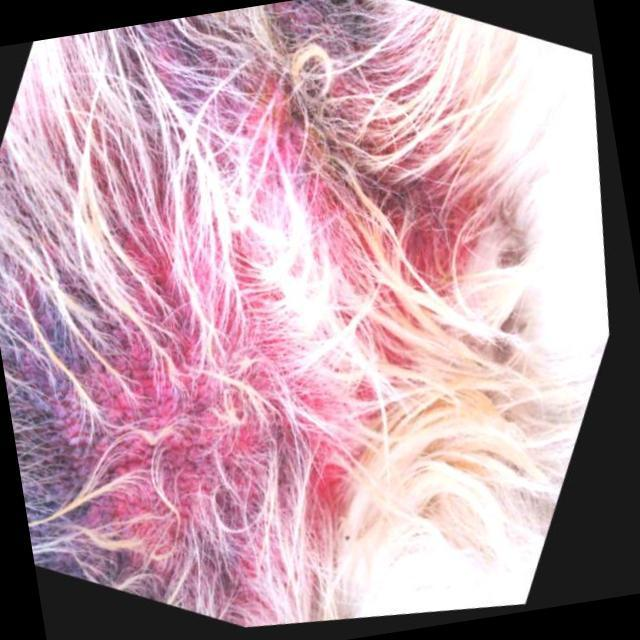fungal infection: (183, 89, 398, 408), (91, 348, 221, 530), (106, 162, 222, 346), (131, 59, 240, 171), (412, 129, 486, 268), (268, 405, 355, 507), (261, 11, 376, 88), (217, 400, 300, 478)
